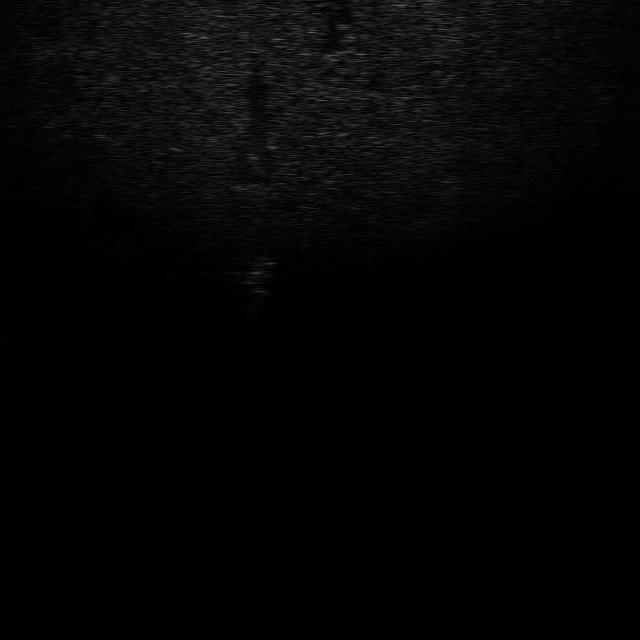human body: (242, 252, 278, 322)
